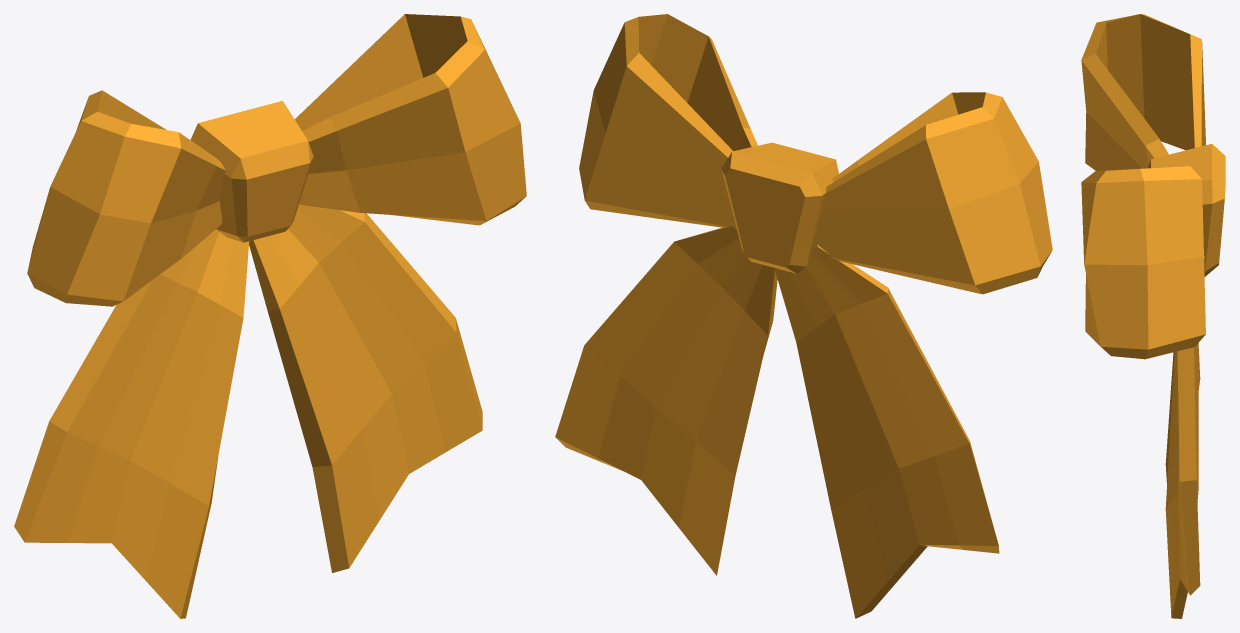
The model's file is SM_Bow_4july.fbx.
The picture shows the model from 3 angles, left to right: view 1: azimuth 30°, elevation 25°; view 2: azimuth 150°, elevation 25°; view 3: azimuth 270°, elevation 25°; orthographic projection. The views are drawn at different scales.
Visible parts, largest first — view 1: bow-4july; view 2: bow-4july; view 3: bow-4july.
Boxes of the visible parts, x1,y1,x2,y2 form: bow-4july: [14, 14, 526, 618]; bow-4july: [555, 14, 1052, 618]; bow-4july: [1081, 14, 1225, 618].
Bounding box in the file's own units: 0.2582 × 0.2822 × 0.073.
